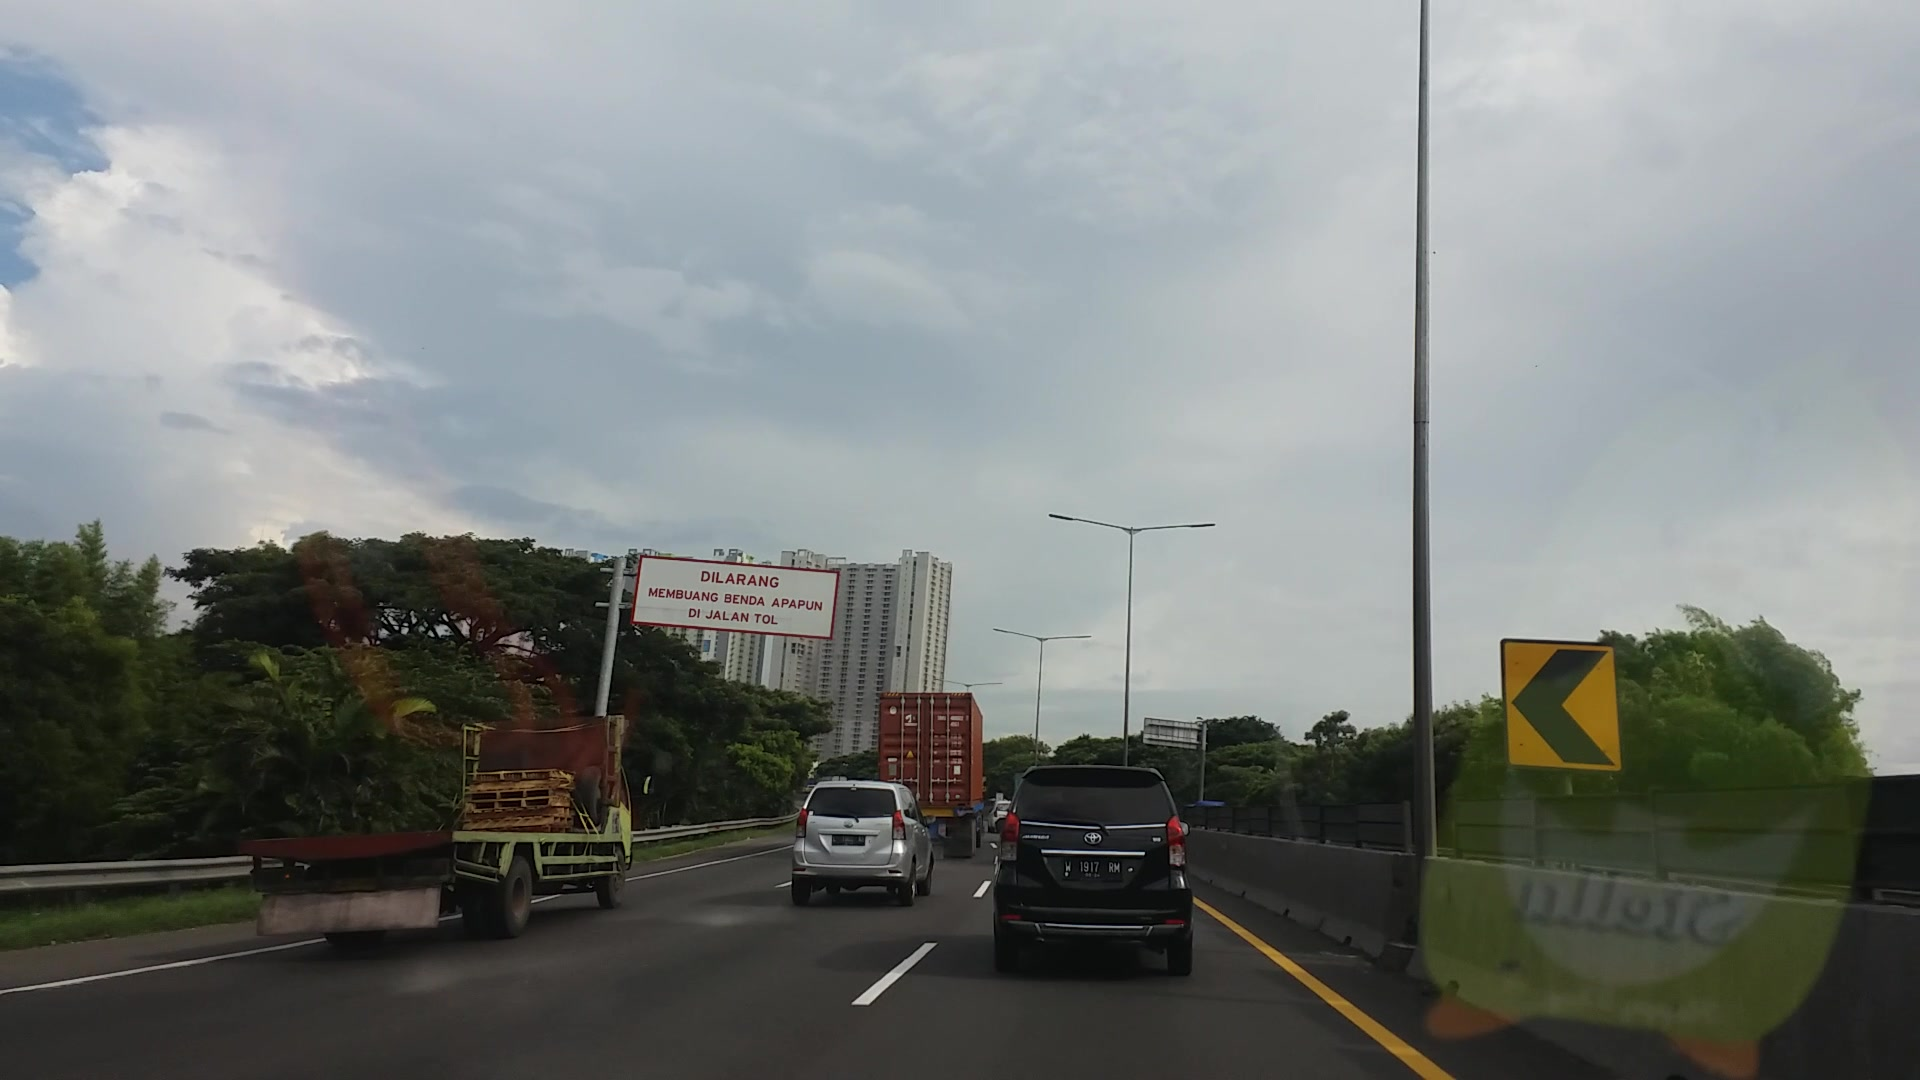plate_positive: (1063, 858, 1124, 884)
